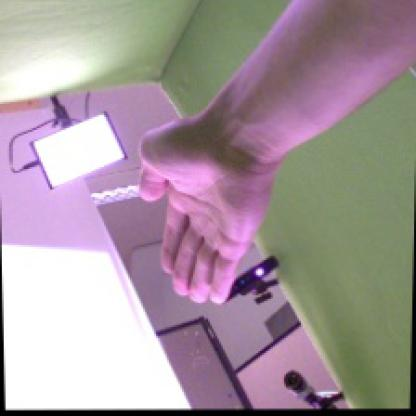Hand: (136, 117, 274, 306)
